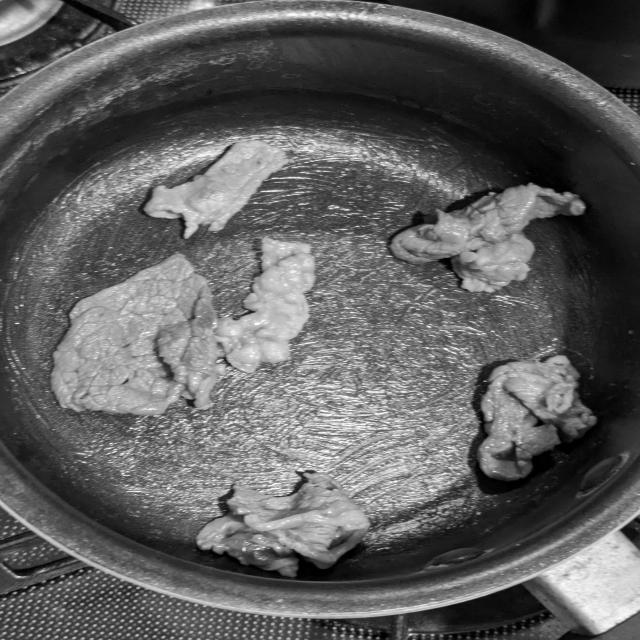NG undercooked beef,: (41, 246, 229, 424), (191, 466, 394, 586)
OK undercooked beef,: (372, 183, 597, 296), (460, 343, 617, 491), (135, 133, 308, 246), (208, 233, 332, 376)
